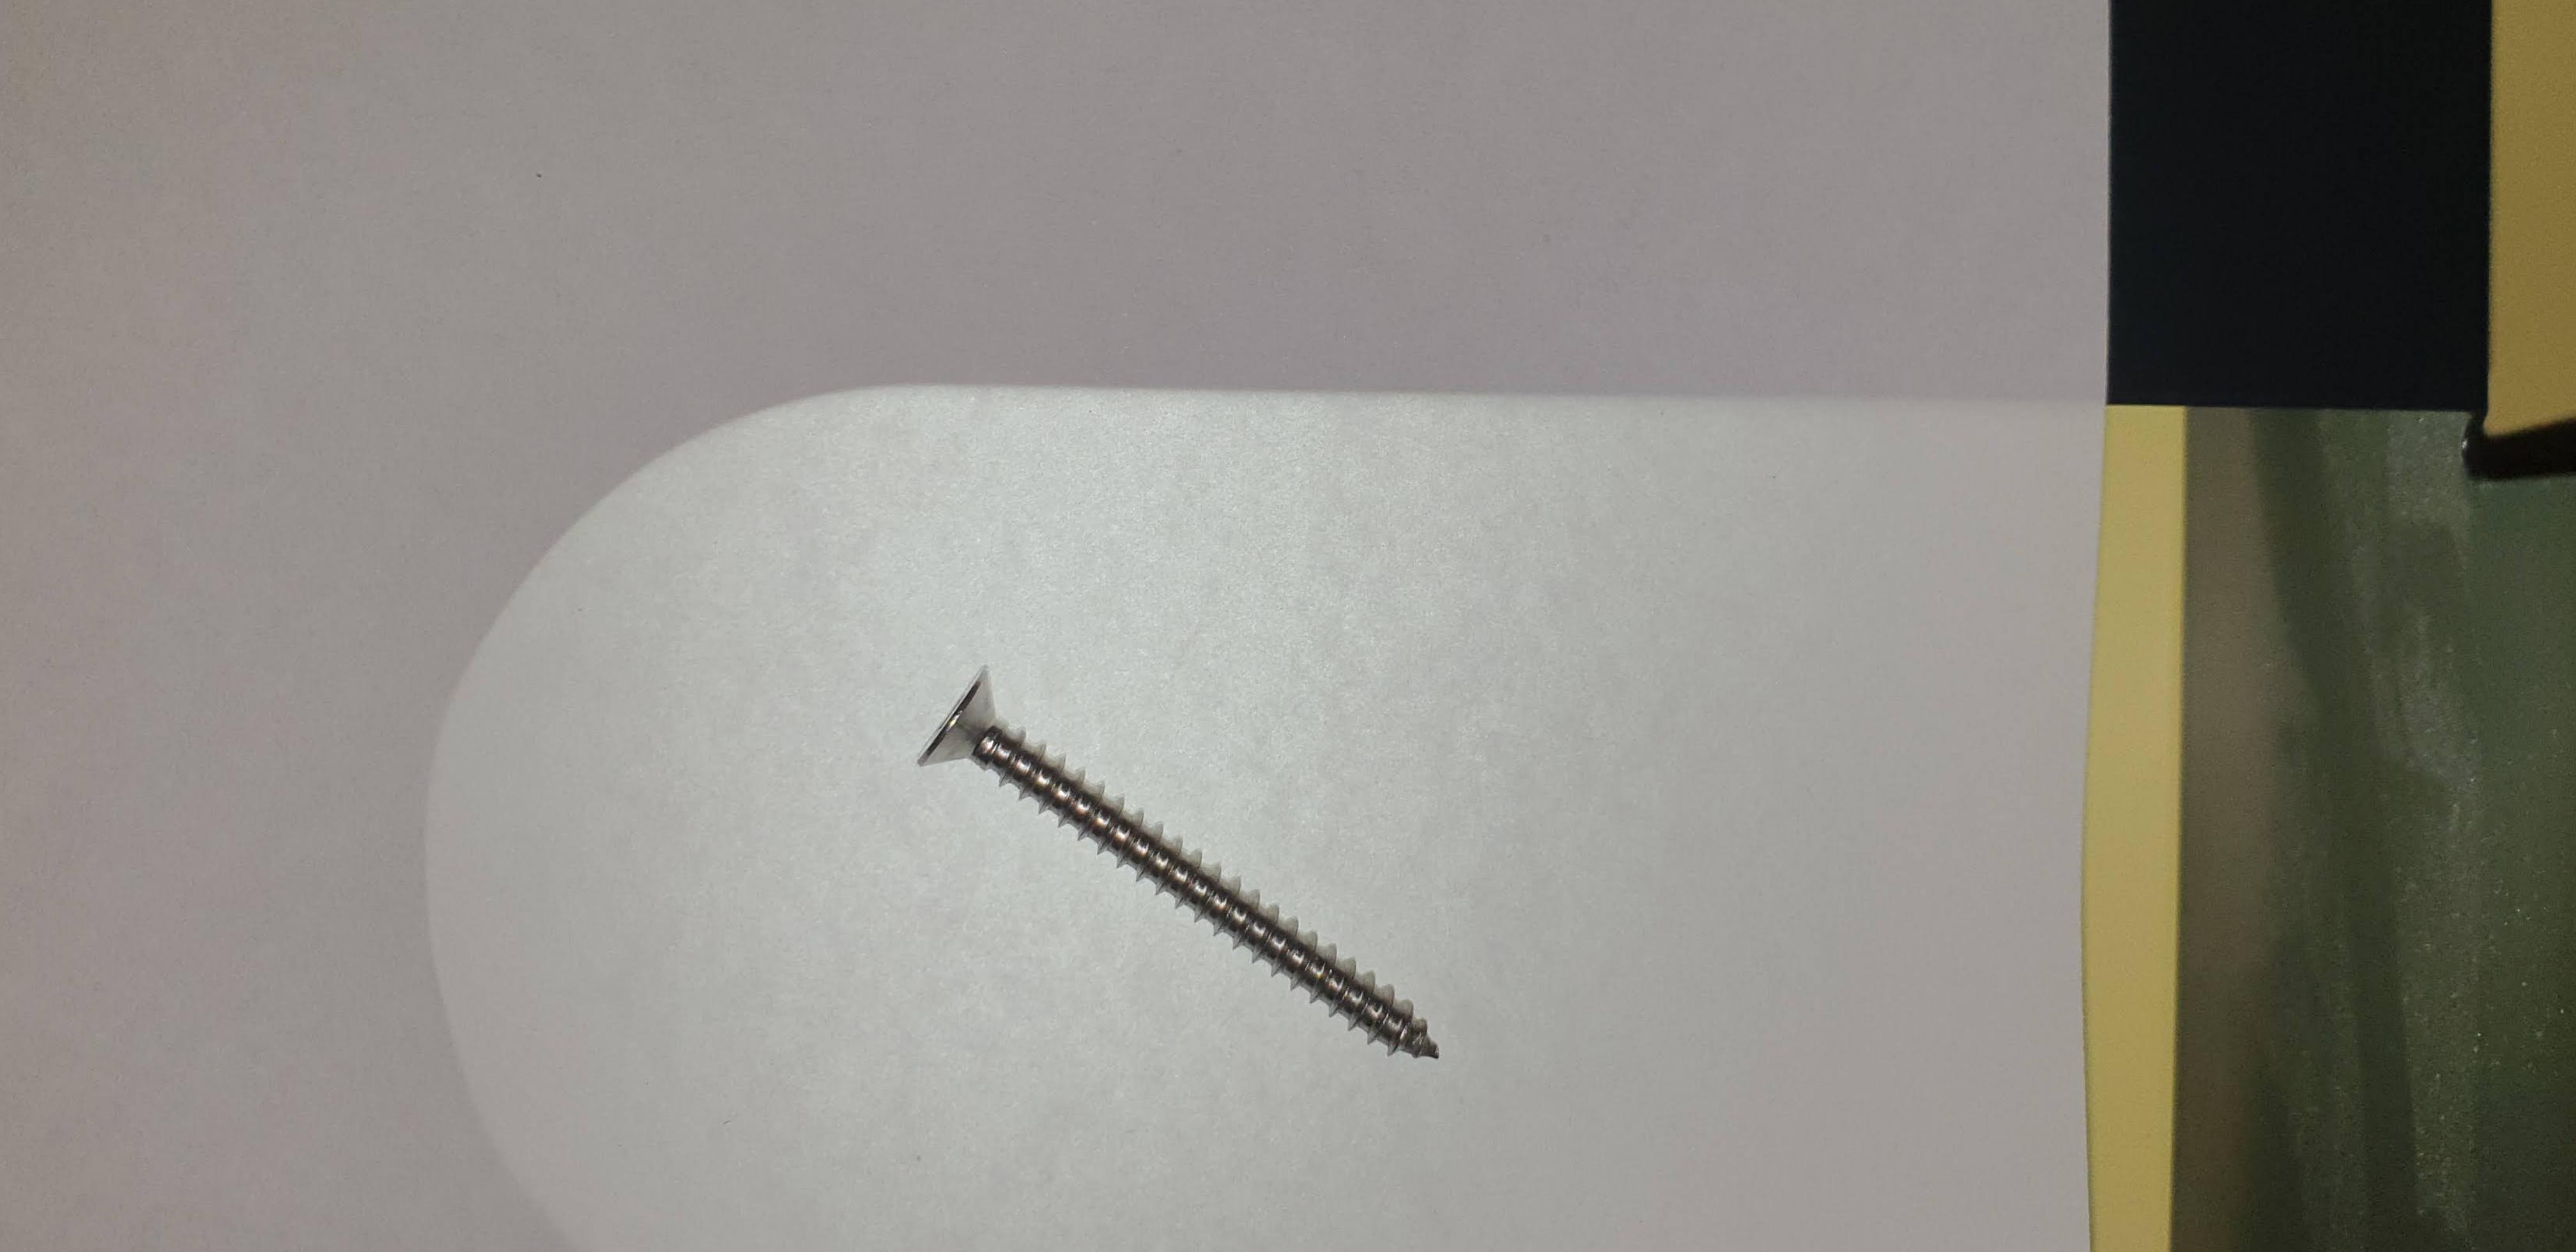fastener: (823, 572, 1572, 1140)
